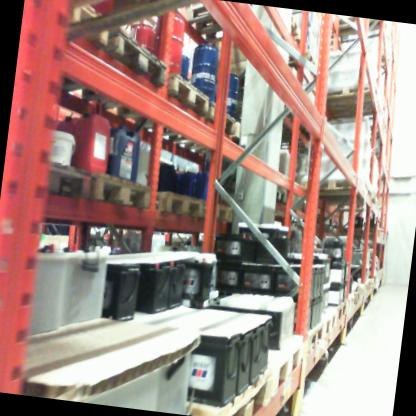pallet: (37, 18, 174, 126), (177, 0, 331, 78), (42, 0, 210, 64), (95, 61, 216, 142), (48, 0, 121, 88), (183, 355, 273, 416), (148, 90, 244, 144), (82, 163, 162, 218), (313, 72, 388, 129), (263, 324, 309, 415), (32, 158, 103, 206), (304, 164, 369, 212), (148, 186, 208, 231), (306, 308, 339, 349), (300, 317, 326, 364), (204, 198, 242, 230), (336, 287, 362, 311), (325, 298, 350, 322), (348, 223, 381, 241), (361, 185, 376, 205)
